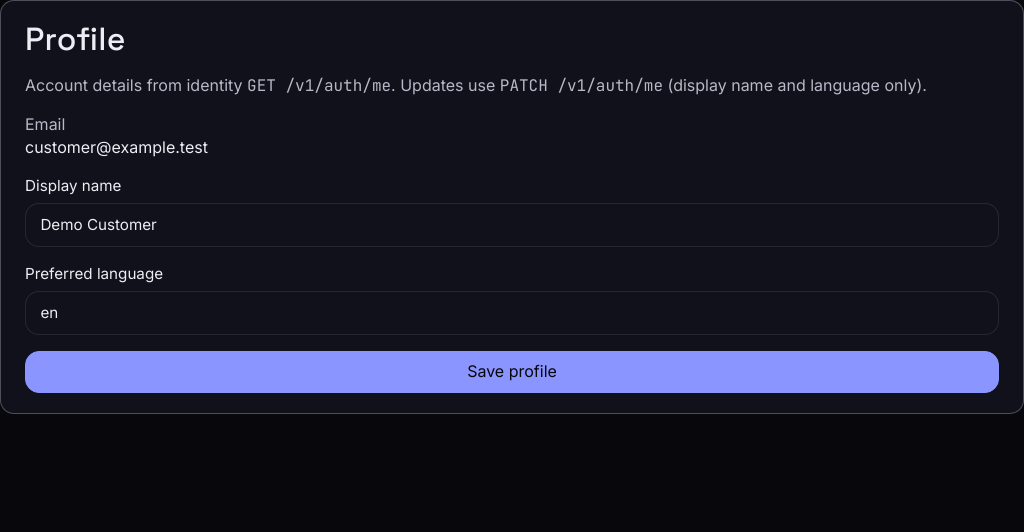
Test case: customer profile + notifications › profile save updates via action — no password in HTML
Replace the text in the field with test id "profile-display-name" with "Updated Customer" at (512, 225), box [25,203,999,247]
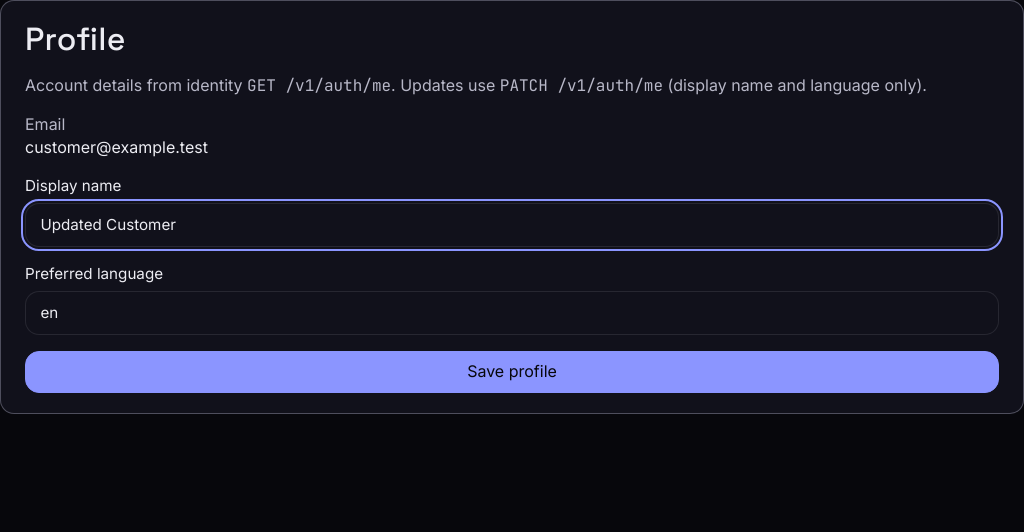
Click the button with test id "profile-save" at (512, 372), box [25,351,999,393]
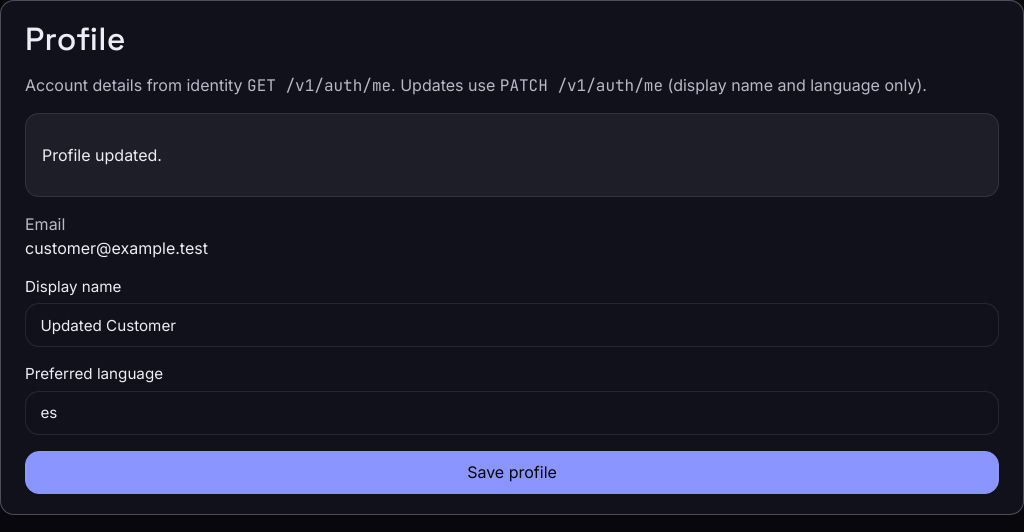
expect the message "Profile updated." is shown: met, box [25,113,999,197]
